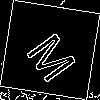M: (24, 24, 86, 86)
